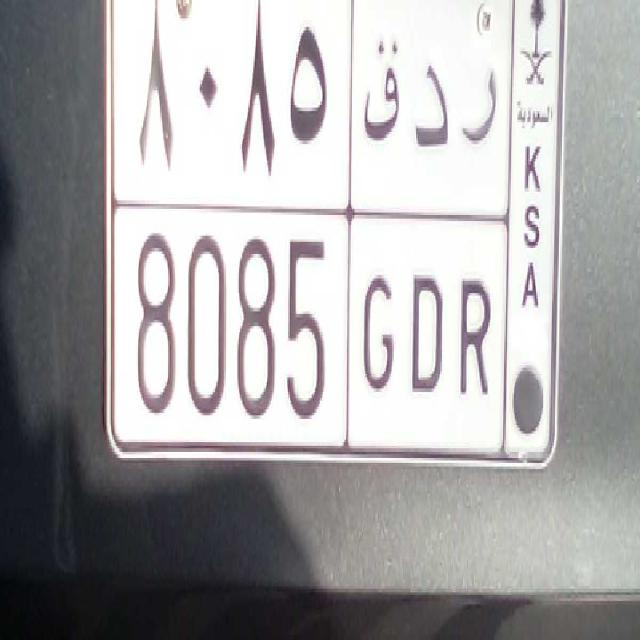license_plate: (128, 202, 501, 436)
